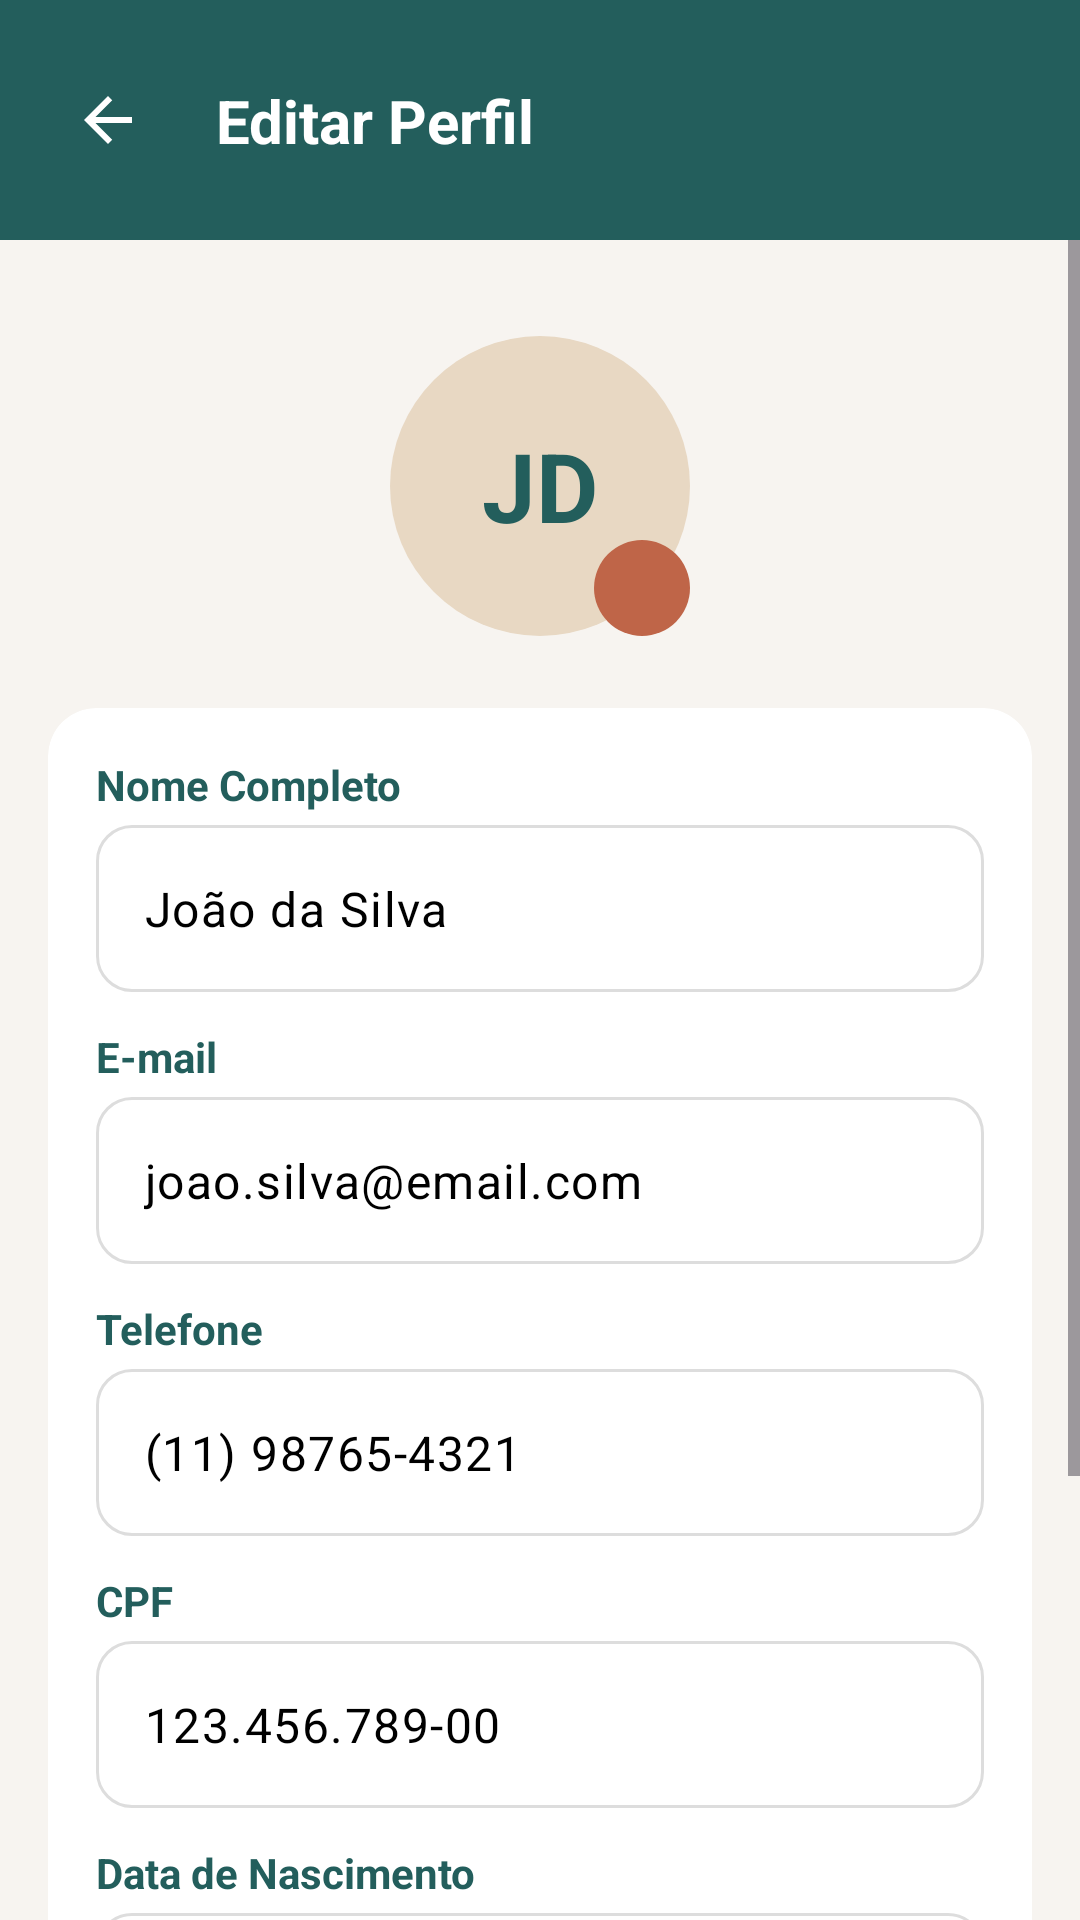

Where to tap for icons on this 1080×1920 app screen, as (x,y):
Voltar: (108,120)
